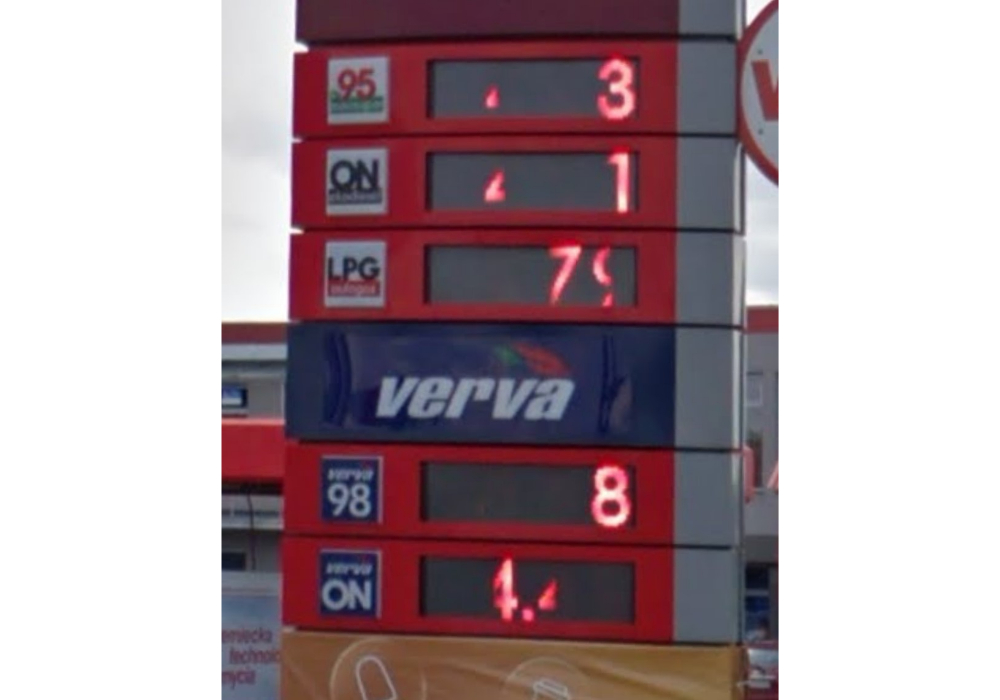LPG: (323, 238, 385, 309)
ON: (316, 545, 383, 619), (324, 146, 388, 215)
PB95: (326, 53, 390, 124)
PB98: (317, 450, 385, 525)
